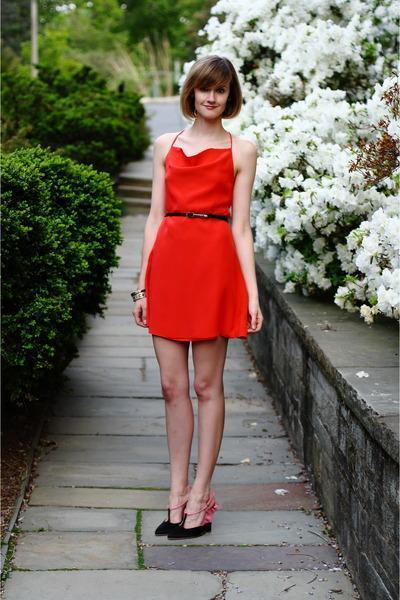dress: (138, 144, 251, 341)
shoe: (156, 514, 211, 539)
